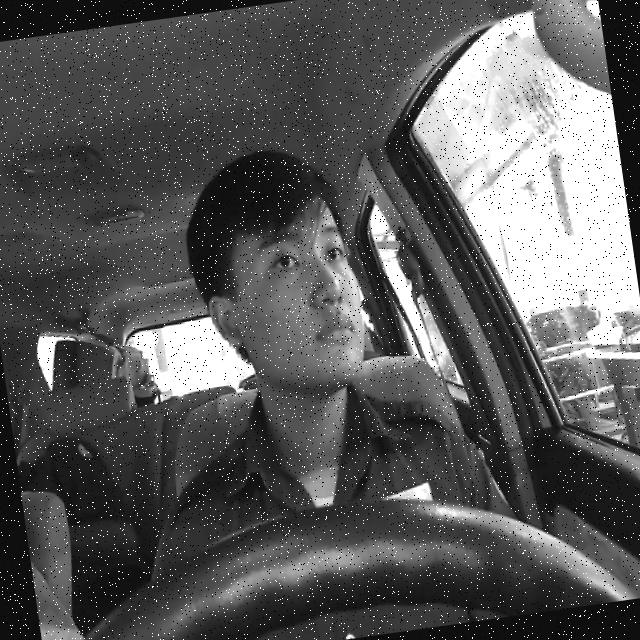seeing_right: (190, 184, 374, 403)
